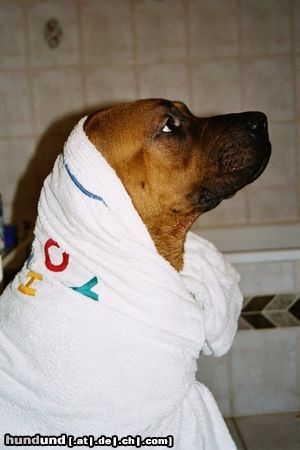tosa_inu: (82, 96, 271, 273)
